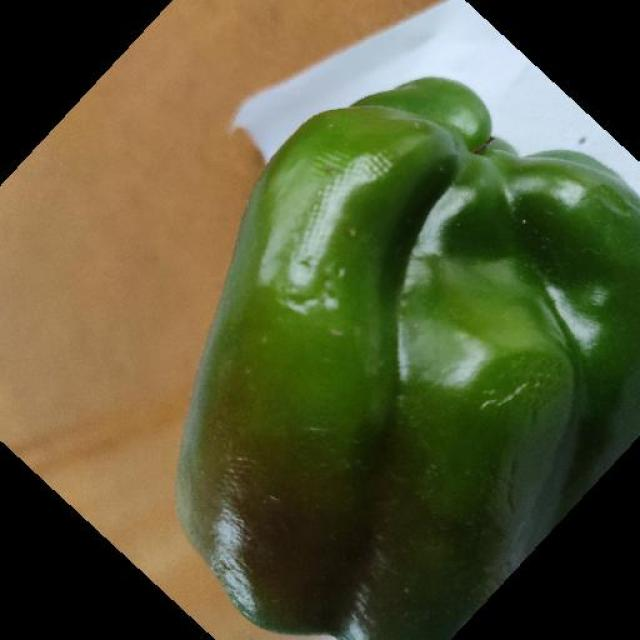Stale_Capsicum: (203, 61, 625, 586)
